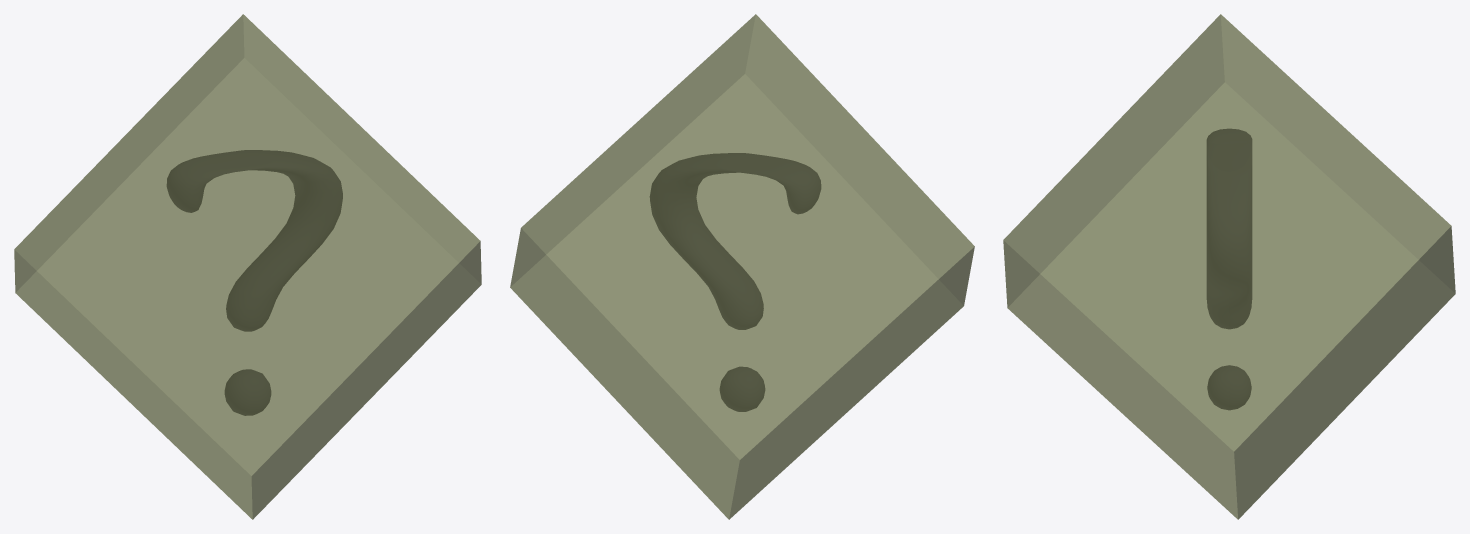
Rendered from item box.fbx.
The picture shows the model from 3 angles, left to right: view 1: azimuth 30°, elevation 25°; view 2: azimuth 150°, elevation 25°; view 3: azimuth 270°, elevation 25°; orthographic projection. The views are drawn at different scales.
Parts seen in each view (by area): view 1: pCube1, pCube3, pCube2; view 2: pCube1, pCube3, pCube2; view 3: pCube1, pCube3, pCube2.
Boxes of the visible parts, <box> form: pCube1: <box>14,14,481,519</box>; pCube3: <box>167,150,342,331</box>; pCube2: <box>225,369,270,415</box>; pCube1: <box>510,14,974,519</box>; pCube3: <box>650,153,820,329</box>; pCube2: <box>720,367,764,411</box>; pCube1: <box>1003,14,1455,519</box>; pCube3: <box>1207,129,1251,328</box>; pCube2: <box>1207,365,1251,409</box>.
Bounding box in the file's own units: 10.82 × 11.32 × 9.34.
